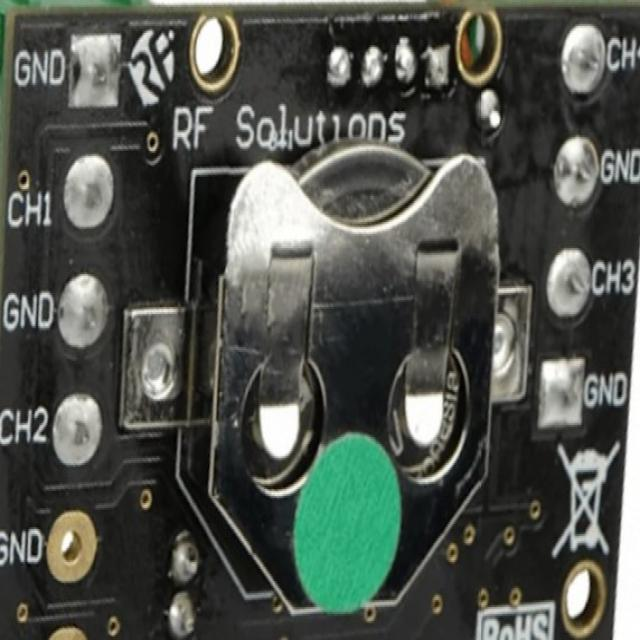battery: (199, 136, 513, 613)
